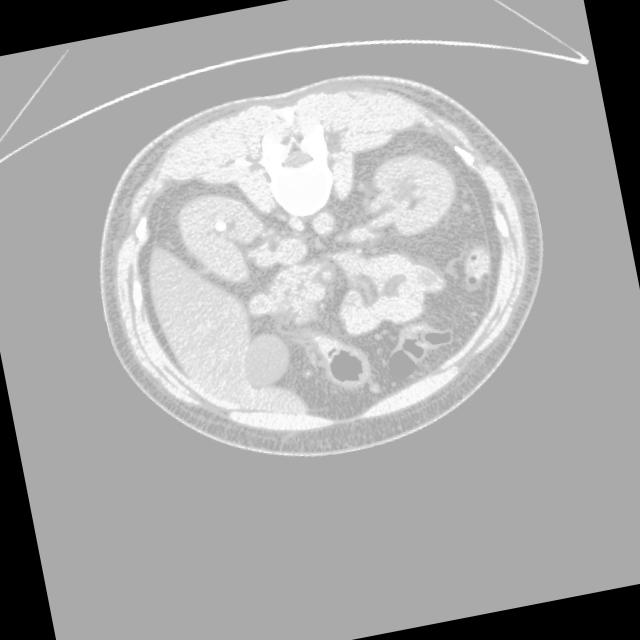STONE: (294, 249, 528, 418)
